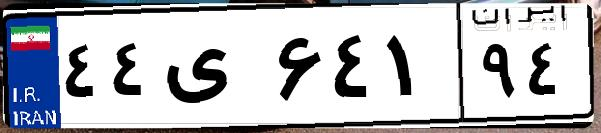1: (385, 28, 445, 110)
4: (330, 28, 385, 110), (57, 26, 110, 100), (525, 38, 570, 115), (110, 28, 158, 98)
6: (270, 28, 330, 110)
9: (475, 38, 525, 113)
ی: (158, 20, 270, 120)
